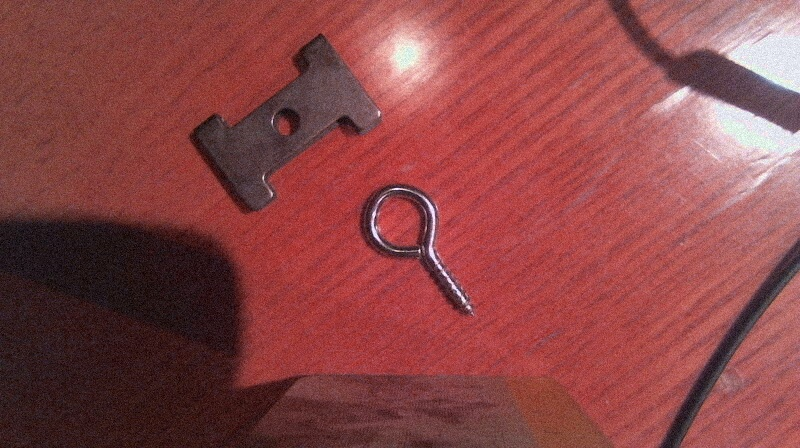O001: (359, 183, 480, 323)
O002: (184, 31, 388, 212)
